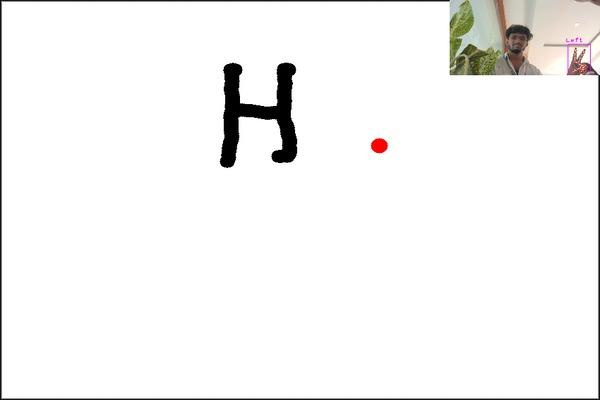H: (213, 54, 303, 177)
